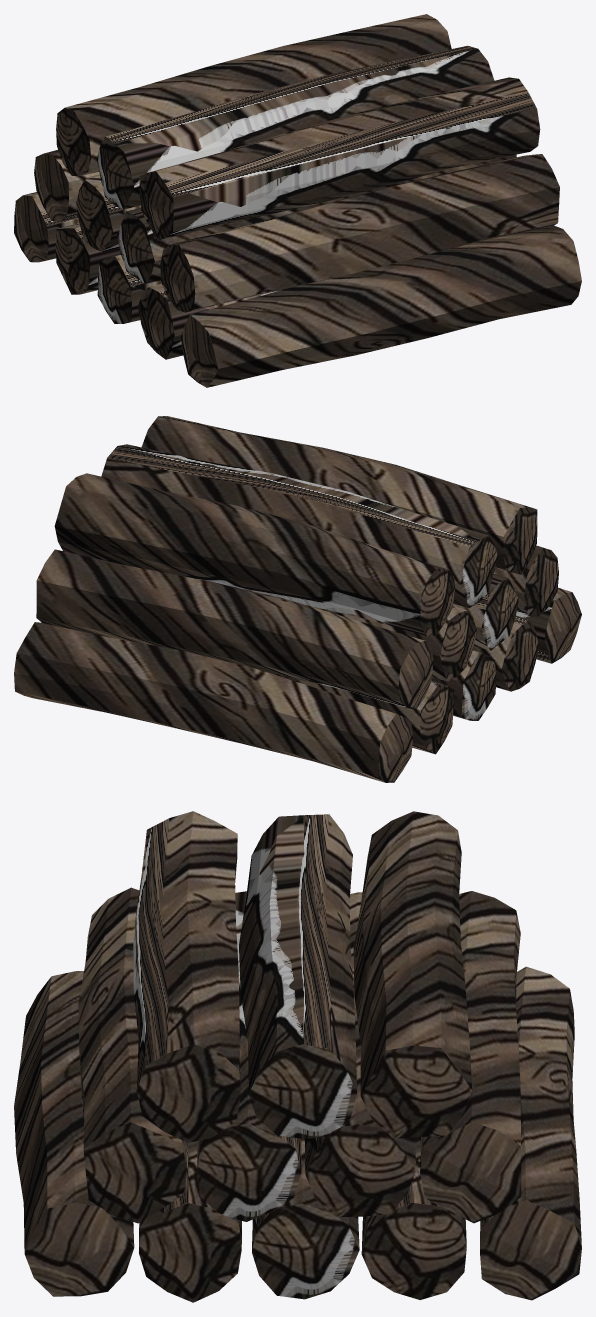
Rendered from dong-cui.glb.
3 renders of one model, top to bottom at view 1: azimuth 30°, elevation 25°; view 2: azimuth 150°, elevation 25°; view 3: azimuth 270°, elevation 25°, orthographic. The views are drawn at different scales.
Parts seen in each view (by area): view 1: fw; view 2: fw; view 3: fw.
Boxes of the visible parts, x1,y1,x2,y2 form: fw: [14, 14, 581, 387]; fw: [14, 416, 581, 782]; fw: [14, 811, 581, 1302].
Bounding box in the file's own units: 0.566 × 0.285 × 0.5544.
2 materials, 2 textured.
